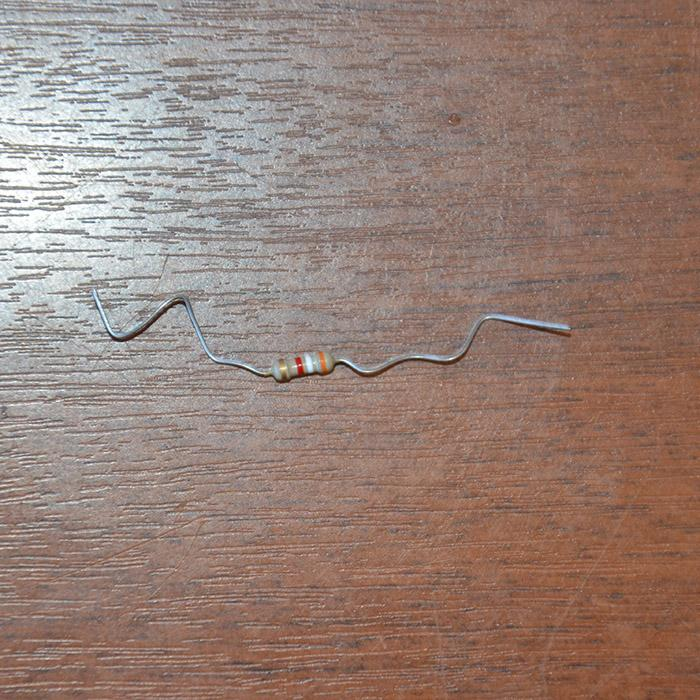resistor: (270, 350, 335, 382)
